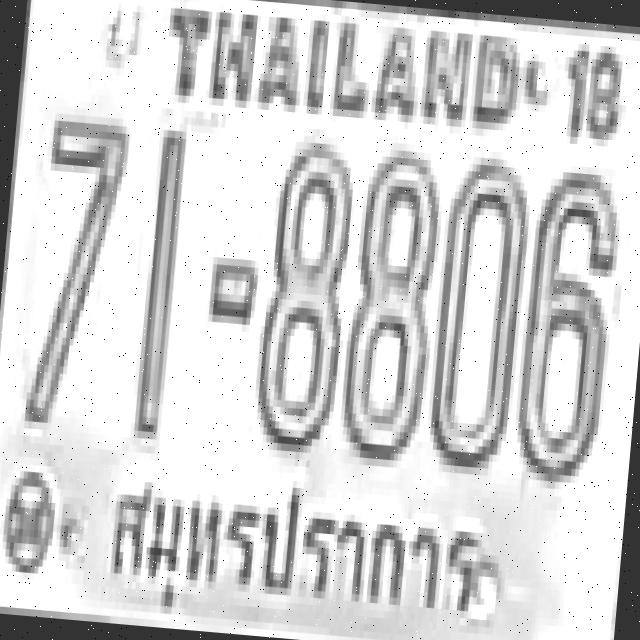0: (422, 154, 532, 470)
1: (130, 126, 187, 436)
6: (510, 166, 620, 481)
7: (21, 105, 128, 427)
8: (334, 147, 444, 462), (248, 136, 354, 451)
SamutPrakan: (95, 450, 497, 640)
